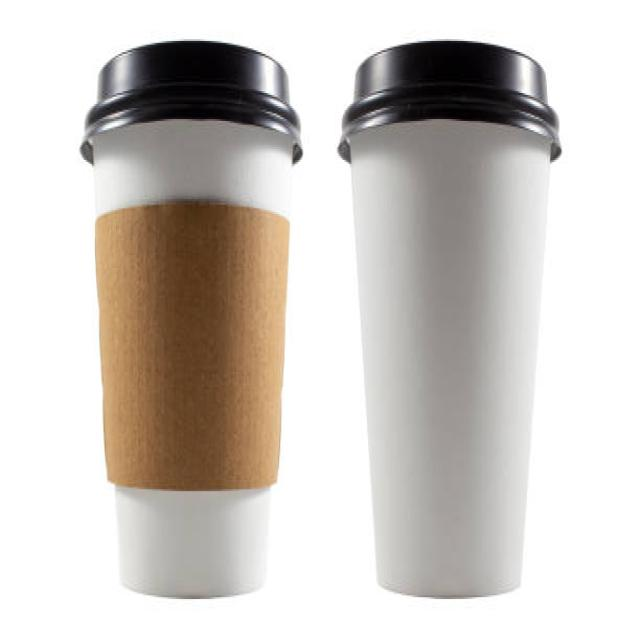cup: (337, 38, 563, 601), (79, 40, 305, 600)
